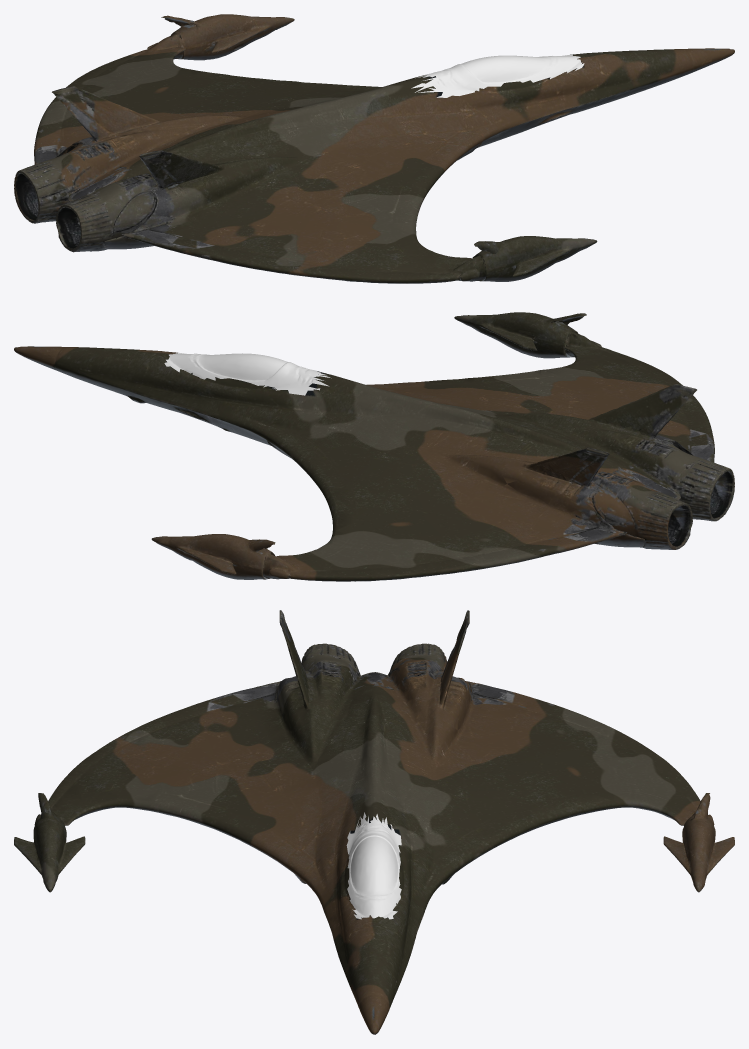
File: fh_battle_fighter_t5.glb
3 renders of one model, top to bottom at view 1: azimuth 30°, elevation 25°; view 2: azimuth 150°, elevation 25°; view 3: azimuth 270°, elevation 25°, orthographic. The views are drawn at different scales.
Visible parts, largest first — view 1: fh_battle_fighter_t5; view 2: fh_battle_fighter_t5; view 3: fh_battle_fighter_t5.
Boxes of the visible parts, x1,y1,x2,y2 form: fh_battle_fighter_t5: (14, 14, 734, 283); fh_battle_fighter_t5: (14, 312, 734, 581); fh_battle_fighter_t5: (14, 610, 734, 1034).
Bounding box in the file's own units: 1 × 0.1655 × 0.8481.
Materials: 2 (1 with a texture image).
